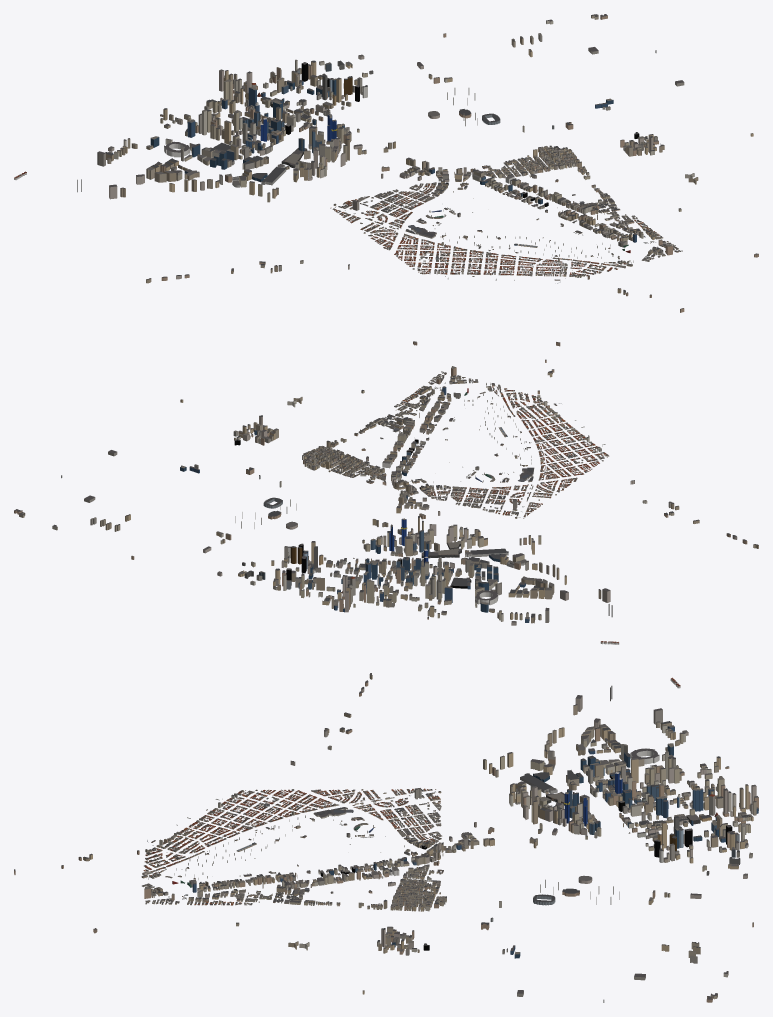
The model's file is scenery.glb.
3 renders of one model, top to bottom at view 1: azimuth 30°, elevation 25°; view 2: azimuth 150°, elevation 25°; view 3: azimuth 270°, elevation 25°, orthographic. The views are drawn at different scales.
Visible parts, largest first — view 1: chunk_12_7, chunk_11_6, chunk_13_8, chunk_11_7, chunk_12_9, chunk_13_4, chunk_15_5, chunk_16_12, chunk_10_7, chunk_9_8, chunk_12_6, chunk_13_5 (+6 smaller); view 2: chunk_13_8, chunk_12_9, chunk_13_4, chunk_15_5, chunk_11_7, chunk_12_6, chunk_12_7, chunk_20_12; view 3: chunk_13_4, chunk_13_8, chunk_13_5, chunk_12_7, chunk_13_6, chunk_11_6, chunk_12_6, chunk_15_5, chunk_16_12, chunk_9_7, chunk_11_7, chunk_18_12 (+7 smaller).
Part boxes in pixels (box(x1,y1,x2,y2)): chunk_12_7: box(242, 118, 283, 155); chunk_11_6: box(187, 109, 234, 144); chunk_13_8: box(298, 119, 340, 160); chunk_11_7: box(210, 134, 254, 165); chunk_12_9: box(293, 149, 326, 182); chunk_13_4: box(219, 69, 265, 103); chunk_15_5: box(310, 74, 354, 100); chunk_16_12: box(472, 170, 523, 193); chunk_10_7: box(181, 143, 226, 167); chunk_9_8: box(164, 170, 212, 191); chunk_12_6: box(233, 107, 270, 139); chunk_13_5: box(240, 83, 286, 111); chunk_13_8: box(392, 518, 431, 556); chunk_12_9: box(446, 524, 487, 549); chunk_13_4: box(322, 575, 363, 612); chunk_15_5: box(281, 546, 320, 581); chunk_11_7: box(443, 559, 485, 589); chunk_12_6: box(389, 557, 430, 589); chunk_12_7: box(402, 549, 454, 576); chunk_20_12: box(243, 415, 278, 445); chunk_13_4: box(714, 784, 758, 822); chunk_13_8: box(542, 789, 591, 825); chunk_13_5: box(674, 788, 715, 824); chunk_12_7: box(590, 766, 632, 805); chunk_13_6: box(627, 794, 673, 823); chunk_11_6: box(631, 751, 674, 785); chunk_12_6: box(632, 765, 672, 804); chunk_15_5: box(671, 816, 718, 857); chunk_16_12: box(376, 856, 420, 878); chunk_9_7: box(585, 726, 620, 754); chunk_11_7: box(586, 762, 630, 788); chunk_18_12: box(377, 892, 420, 911).
Bounding box in the file's own units: 7333 × 330 × 7050.
